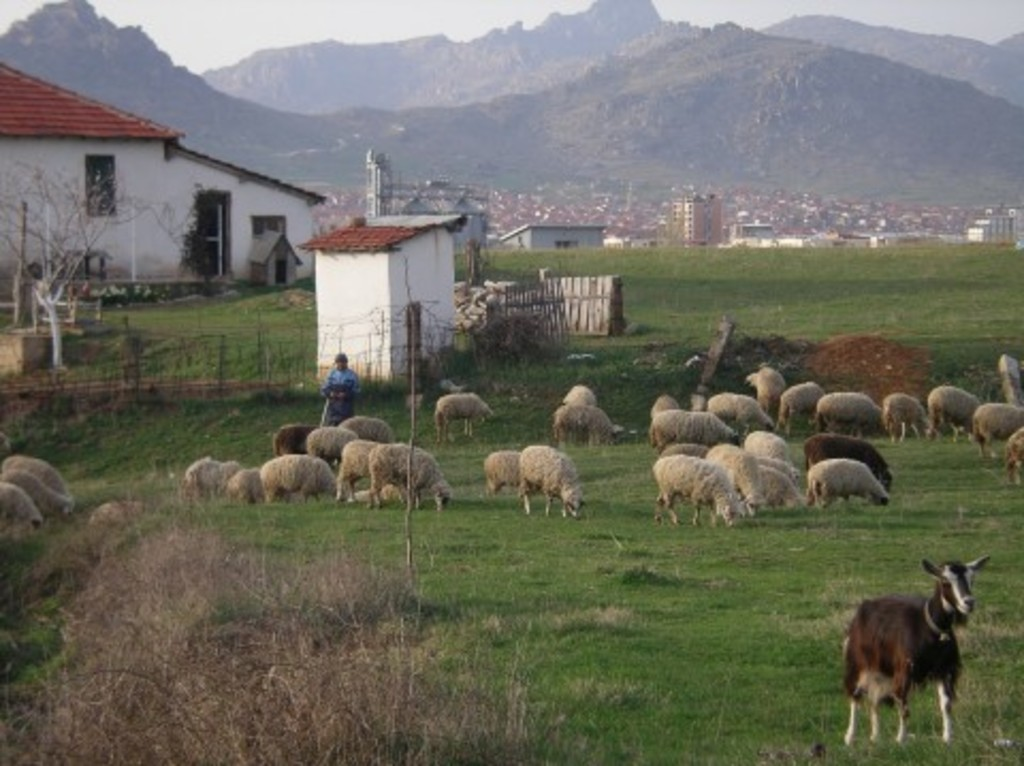person: (318, 350, 361, 426)
